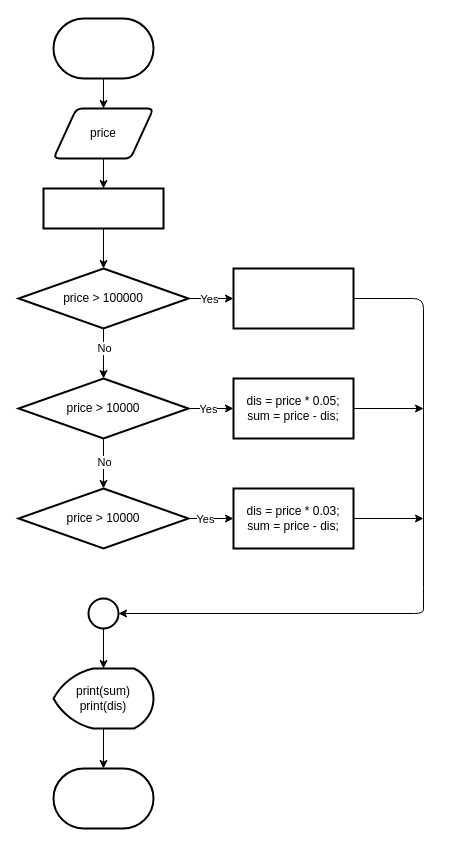
Some shapes in this 449 by 846 pixel diagram are drawn without their labels. Each missing label, with the centre of its shape:
"BEGIN" goes at (103,48).
"dis = price * 0.1; sum = price - dis;" goes at (293,298).
"double dis = 0, sum = 0" goes at (103,208).
"END" goes at (103,798).
